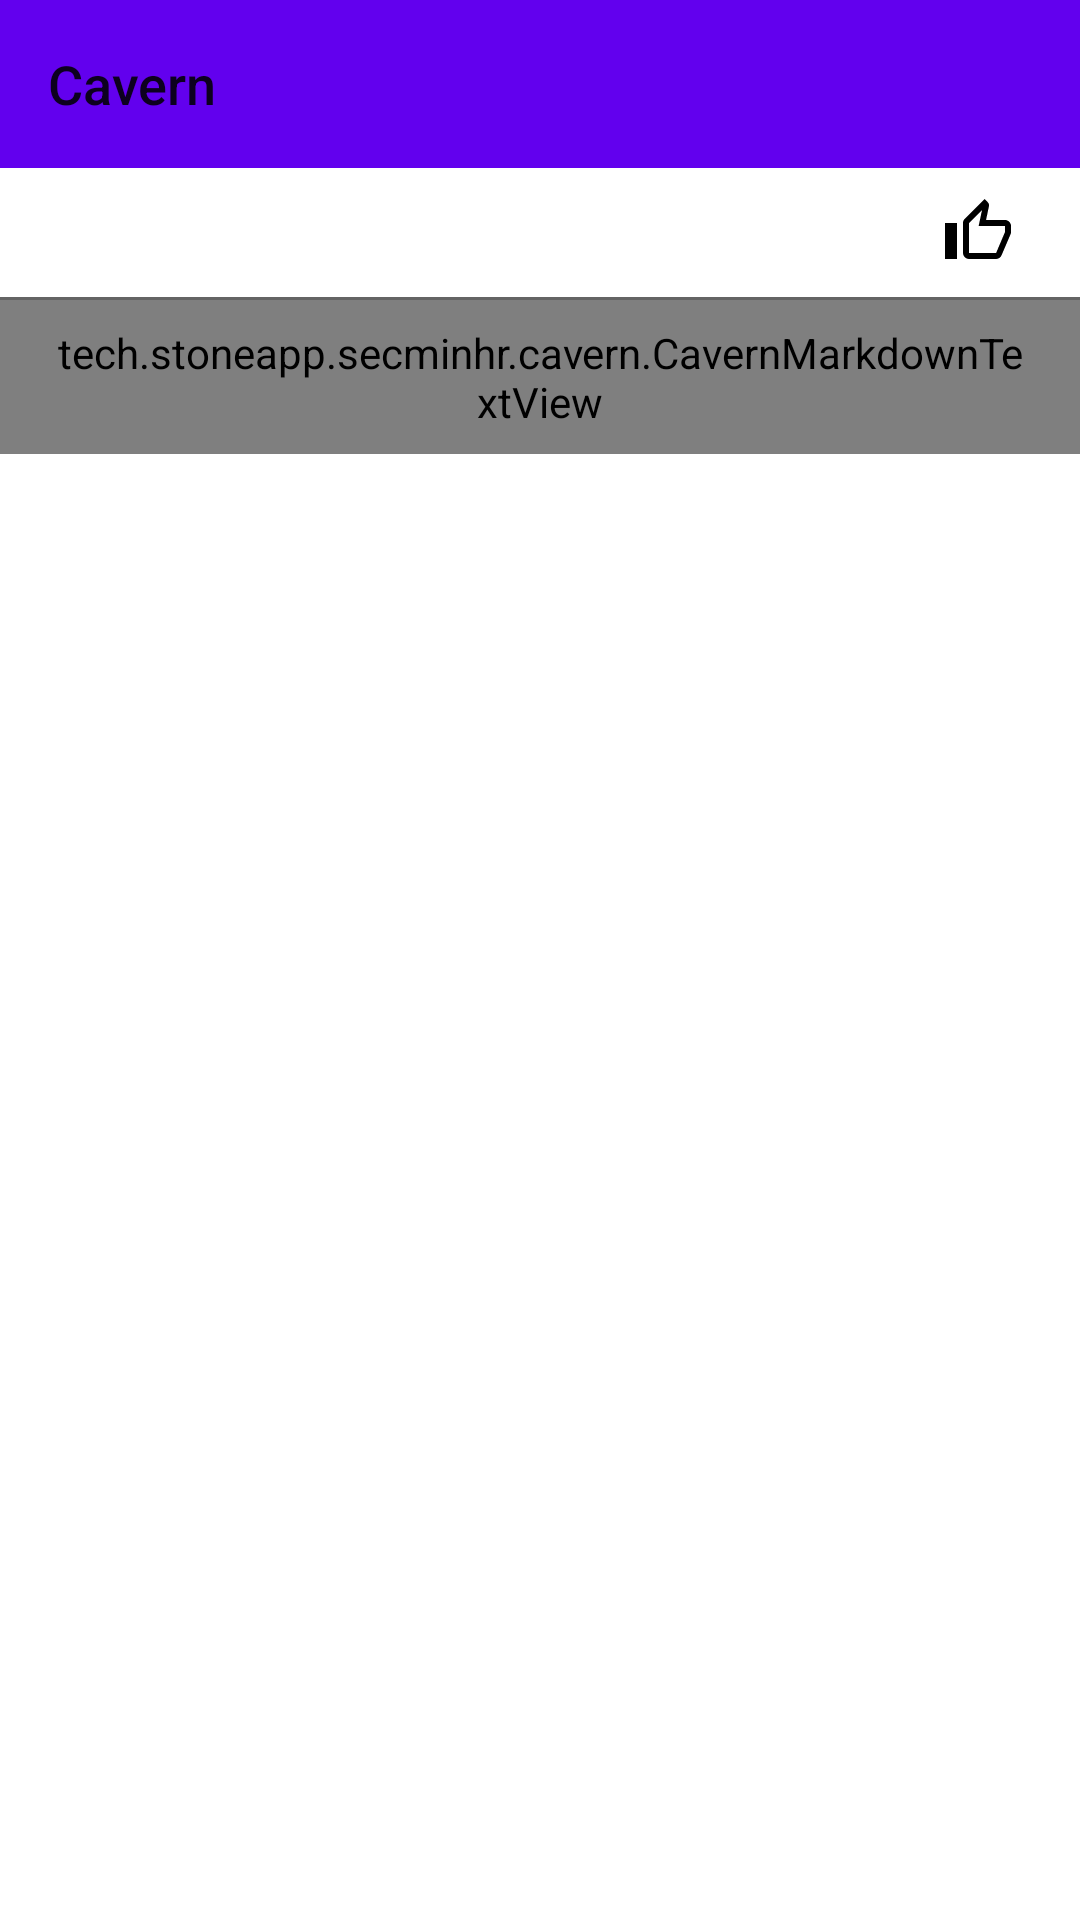

Where to tap for icons on this 1080w x 1920h app screen, as (x,y):
thumb up: (978,229)
